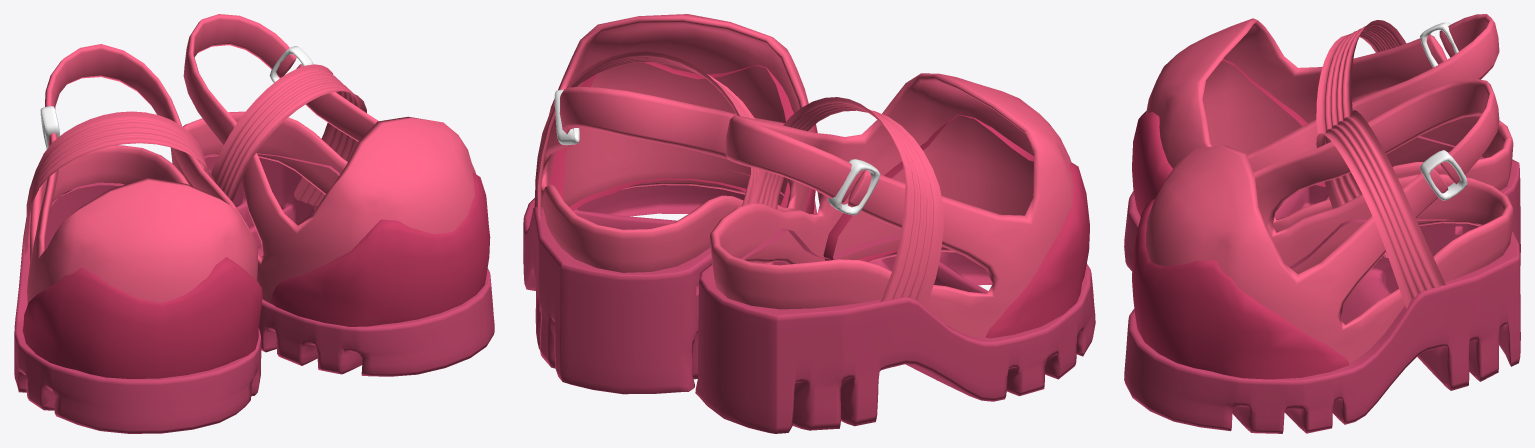
File: Pumps_Hill_Pink.glb
3 renders of one model, left to right at view 1: azimuth 30°, elevation 25°; view 2: azimuth 150°, elevation 25°; view 3: azimuth 270°, elevation 25°, orthographic. The views are drawn at different scales.
Visible parts, largest first — view 1: Pumps_Hill; view 2: Pumps_Hill; view 3: Pumps_Hill.
Part boxes in pixels (x1,y1,x2,y2): Pumps_Hill: [14, 14, 494, 433]; Pumps_Hill: [523, 14, 1095, 433]; Pumps_Hill: [1124, 14, 1520, 433].
Size of the model in its own units: 0.0395 by 0.0214 by 0.0287.
